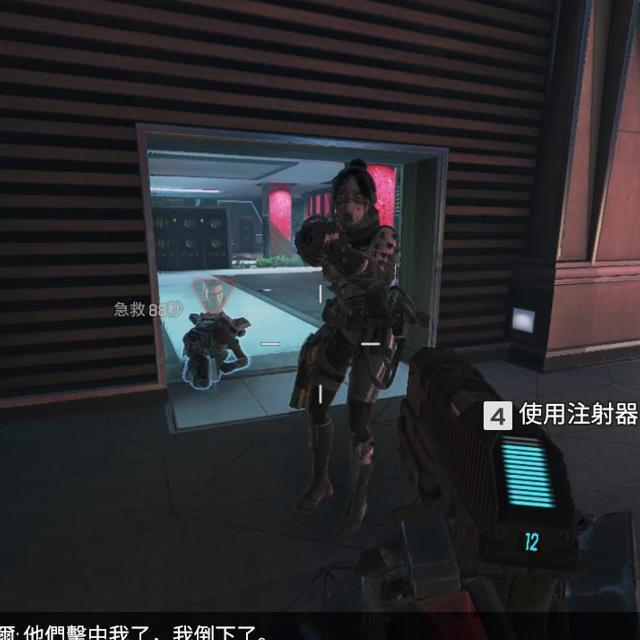avatar: (288, 154, 409, 539)
